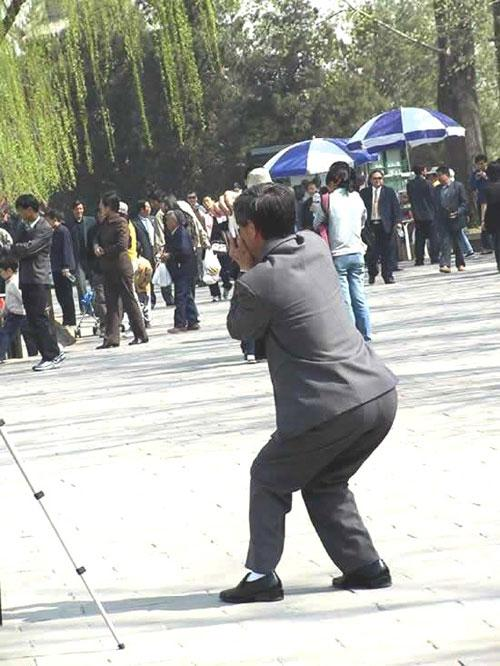person: (217, 183, 402, 607)
